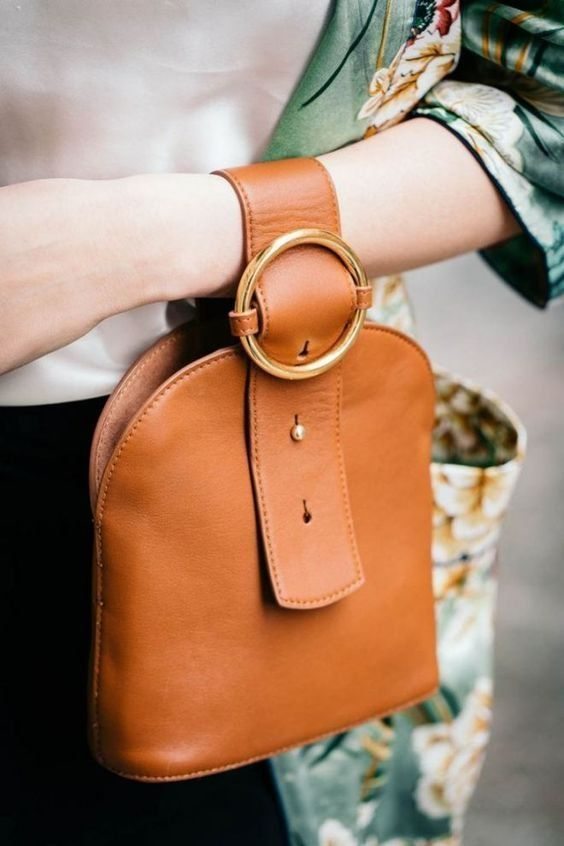cuero: (90, 157, 440, 785)
